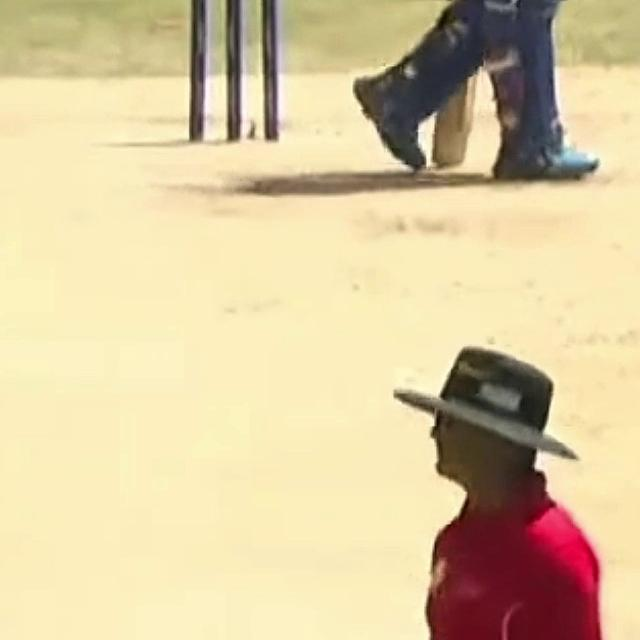umpire: (320, 309, 640, 640)
